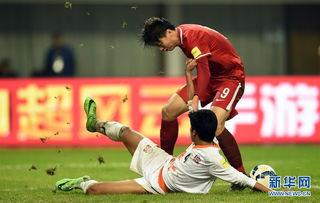bending: (150, 16, 248, 154)
down: (65, 104, 271, 196)
